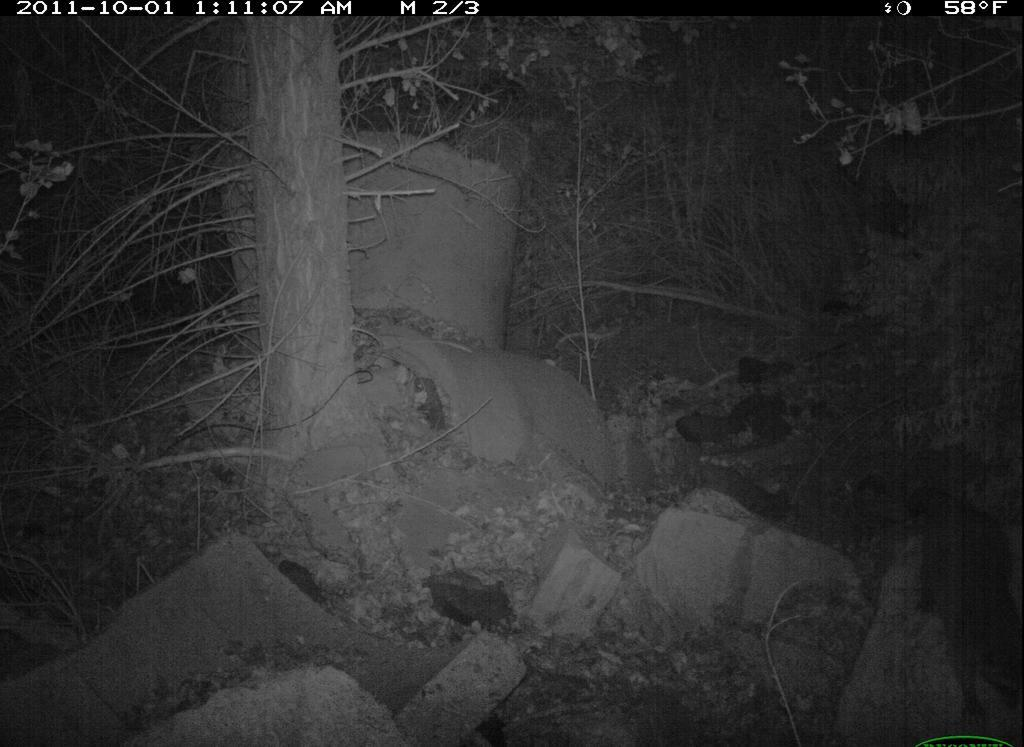raccoon: (907, 479, 1023, 729)
